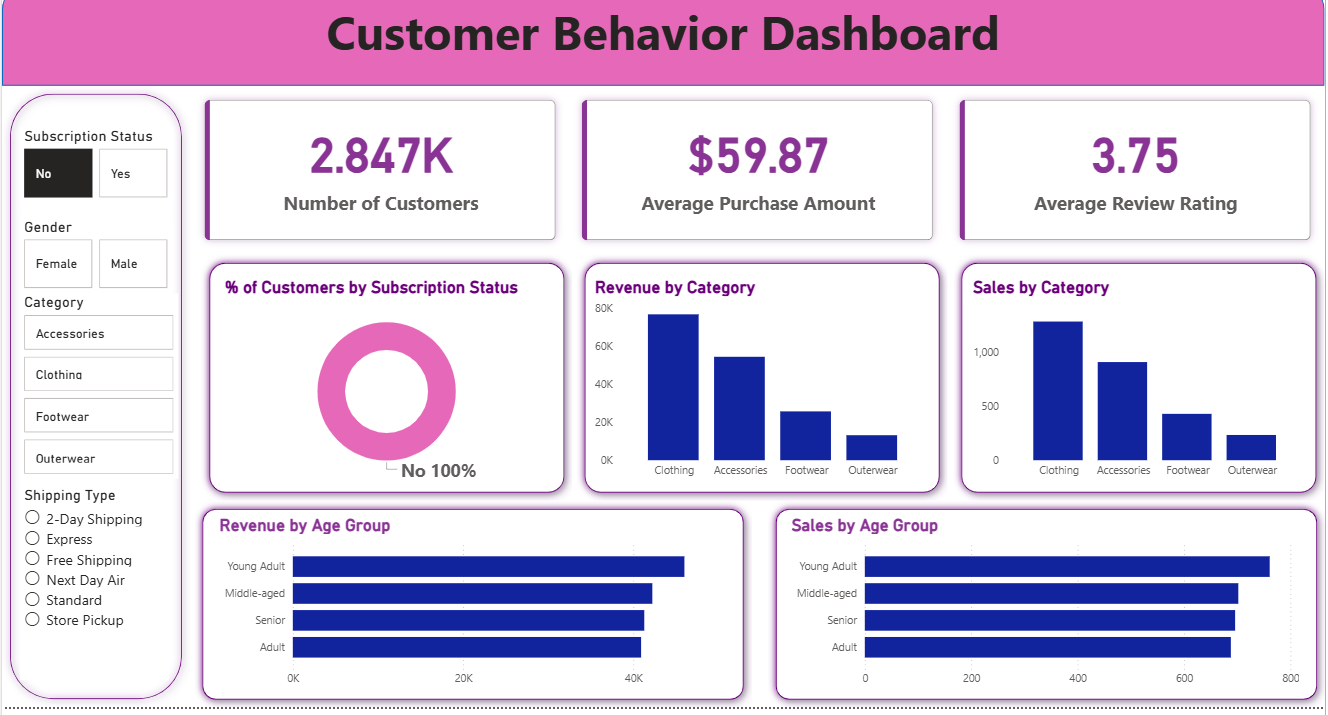

Layout of this report page (visuals, bound fields, positions):
{"tool":"powerbi","page":{"name":"Page 1","canvas":[1500,820],"ordinal":0},"visuals":[{"type":"cardVisual","fields":{"Data":["public customer.Number of Customers","public customer.Average Purchase Amount","public customer.Average Review Rating"]},"box":[212.9,115.3,1286.5,191.6],"z":2000},{"type":"shape","box":[218.3,585.6,631.7,234.2],"z":2500,"group":"g1"},{"type":"shape","box":[0,0,1499.4,115.3],"z":3000},{"type":"textbox","box":[0,12.4,1499.4,102.9],"z":4000},{"type":"shape","box":[225.4,307,420.5,278.6],"z":5000},{"type":"donutChart","title":"% of Customers by Subscription Status","fields":{"Category":["public customer.subscription_status"],"Y":["CountNonNull(public customer.customer_id)"]},"box":[248.4,331.8,376.2,237.8],"z":6000},{"type":"shape","box":[1078.9,307,420.5,278.6],"z":7000},{"type":"shape","box":[652.1,307,420.5,278.6],"z":8000},{"type":"clusteredColumnChart","title":"Revenue by Category","fields":{"Y":["Sum(public customer.purchase_amount)"],"Category":["public customer.category"]},"box":[667.2,331.8,385.1,237.8],"z":9000},{"type":"clusteredColumnChart","title":"Sales by Category","fields":{"Y":["CountNonNull(public customer.customer_id)"],"Category":["public customer.category"]},"box":[1096.6,331.8,385.1,237.8],"z":10000},{"type":"shape","box":[0,115.3,212.9,704.5],"z":11000},{"type":"advancedSlicerVisual","fields":{"Values":["public customer.subscription_status"]},"box":[19.5,161.5,173.9,85.2],"z":12000},{"type":"advancedSlicerVisual","fields":{"Values":["public customer.gender"]},"box":[19.5,264.4,173.9,85.2],"z":13000},{"type":"advancedSlicerVisual","fields":{"Values":["public customer.category"]},"box":[20.3,350.8,179.3,210.5],"z":14000},{"type":"listSlicer","fields":{"Values":["public customer.shipping_type"]},"box":[19.5,569.6,168.6,220],"z":15000},{"type":"shape","box":[867.7,585.6,631.7,234.2],"z":16000},{"type":"clusteredBarChart","title":"Sales by Age Group","fields":{"Y":["CountNonNull(public customer.customer_id)"],"Category":["public customer.age_group"]},"box":[890.8,601.5,585.6,204.1],"z":17000},{"type":"clusteredBarChart","title":"Revenue by Age Group","fields":{"Y":["Sum(public customer.purchase_amount)"],"Category":["public customer.age_group"]},"box":[241.4,601.6,585.6,204.1],"z":17500,"group":"g1"},{"type":"group","id":"g1","title":"Group 1","box":[218.3,585.6,631.7,234.2],"z":17501}]}

Visuals, with their boxes in screenshot pixels (x1, y1, x2, y2), scaled from the page's 1500x820 canvas onto the 1328x715 screenshot:
cardVisual - public customer.Number of Customers x public customer.Average Purchase Amount: rect(188, 101, 1327, 268)
shape: rect(193, 511, 753, 714)
shape: rect(0, 0, 1327, 101)
textbox: rect(0, 11, 1327, 101)
shape: rect(200, 268, 572, 511)
"% of Customers by Subscription Status" donutChart: rect(220, 289, 553, 497)
shape: rect(955, 268, 1327, 511)
shape: rect(577, 268, 950, 511)
"Revenue by Category" clusteredColumnChart: rect(591, 289, 932, 497)
"Sales by Category" clusteredColumnChart: rect(971, 289, 1312, 497)
shape: rect(0, 101, 188, 714)
advancedSlicerVisual - public customer.subscription_status: rect(17, 141, 171, 215)
advancedSlicerVisual - public customer.gender: rect(17, 231, 171, 305)
advancedSlicerVisual - public customer.category: rect(18, 306, 177, 489)
listSlicer - public customer.shipping_type: rect(17, 497, 167, 688)
shape: rect(768, 511, 1327, 714)
"Sales by Age Group" clusteredBarChart: rect(789, 524, 1307, 702)
"Revenue by Age Group" clusteredBarChart: rect(214, 525, 732, 703)
"Group 1" group: rect(193, 511, 753, 714)
